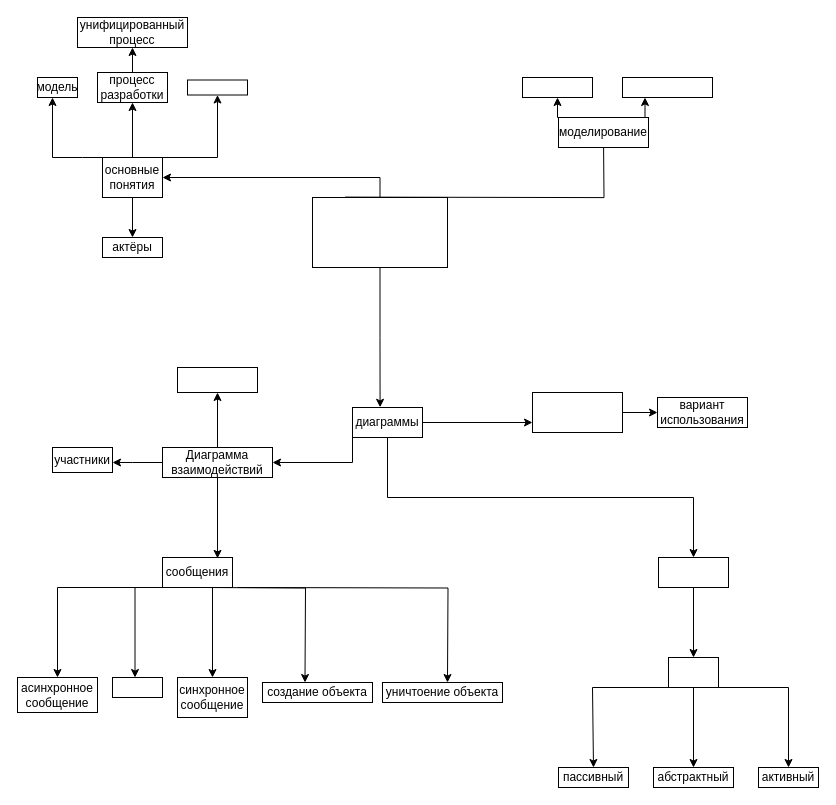
This 836x805 diagram has some shape labels left out. Each missing label, with the centre of its shape:
"артефакт" belongs at point (217, 87).
"возврат" belongs at point (137, 687).
"диаграмма вариантов использования" belongs at point (577, 412).
"диаграмма классов" belongs at point (693, 572).
"динамическое" belongs at point (667, 87).
"классы" belongs at point (693, 672).
"линия жизни" belongs at point (217, 379).
"статическое" belongs at point (557, 87).
"Теория. Программная инженерия" belongs at point (380, 232).
